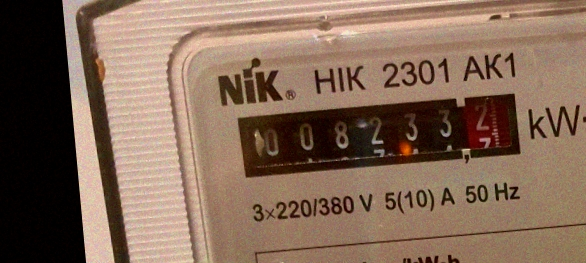0: (259, 124, 282, 158), (295, 120, 316, 153)
2: (363, 113, 386, 147), (471, 100, 491, 133)
3: (400, 110, 420, 143), (435, 106, 454, 138)
8: (330, 117, 350, 150)
screen: (225, 80, 532, 189)
